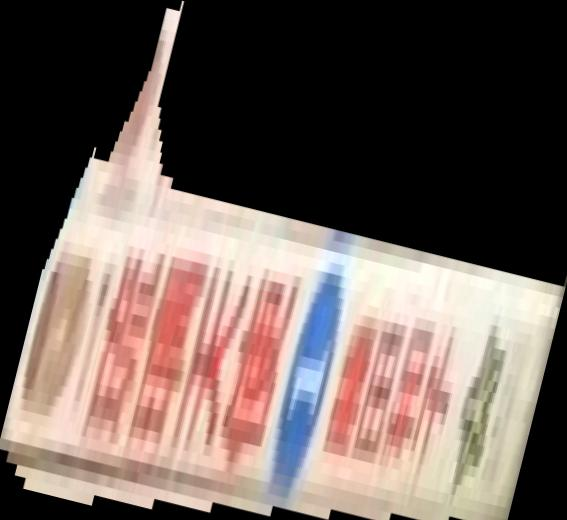flat: (1, 1, 567, 520)
